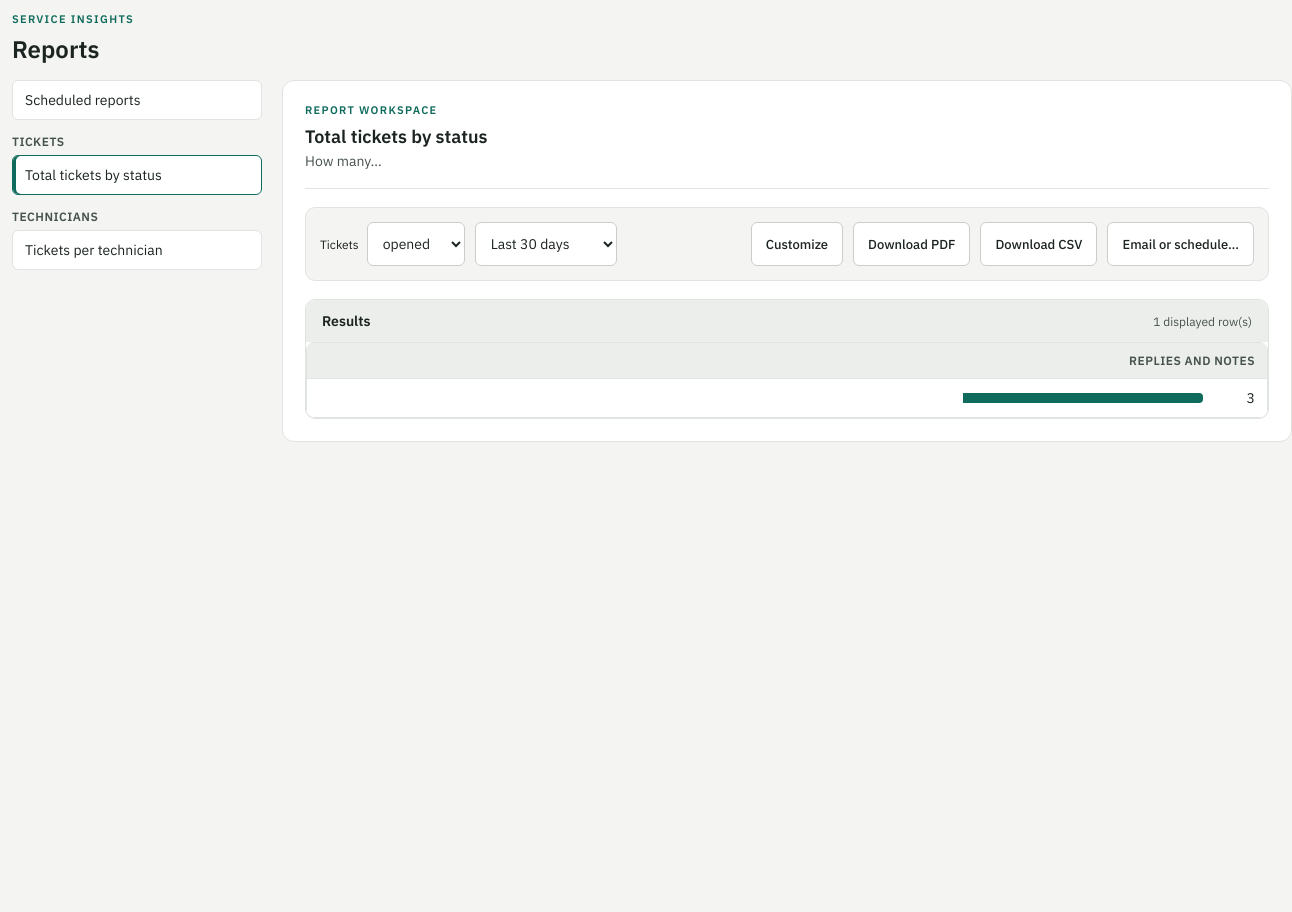
report on other data: switching starts the report fresh and uses that data's dates
This screenshot has width=1292, height=912.
Click the button "Customize". click: [797, 244]
box: [751,222,843,266]
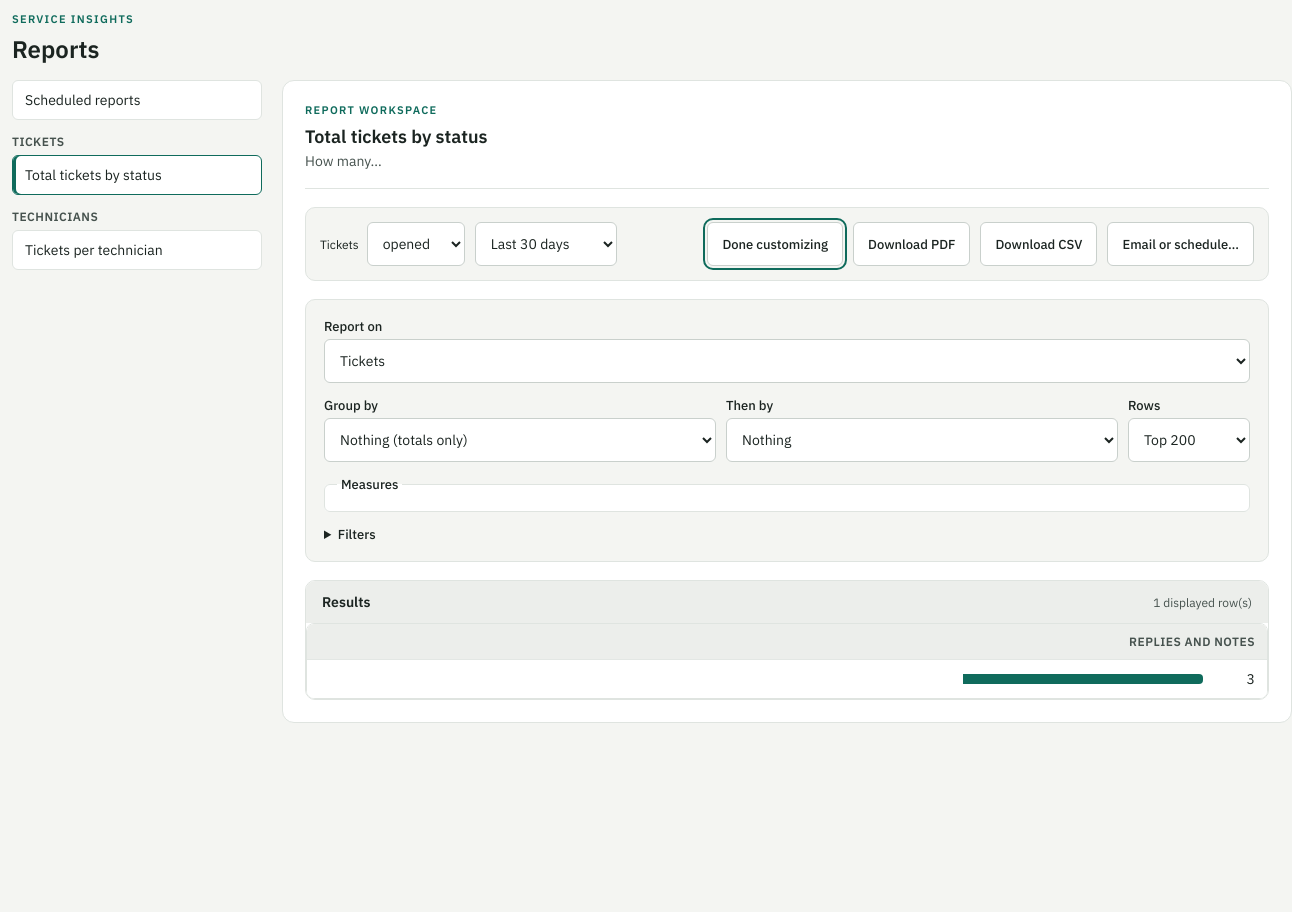
Select "Ticket activity" in the dropdown labelled "Report on". click: [787, 361]
box: [324,339,1250,383]
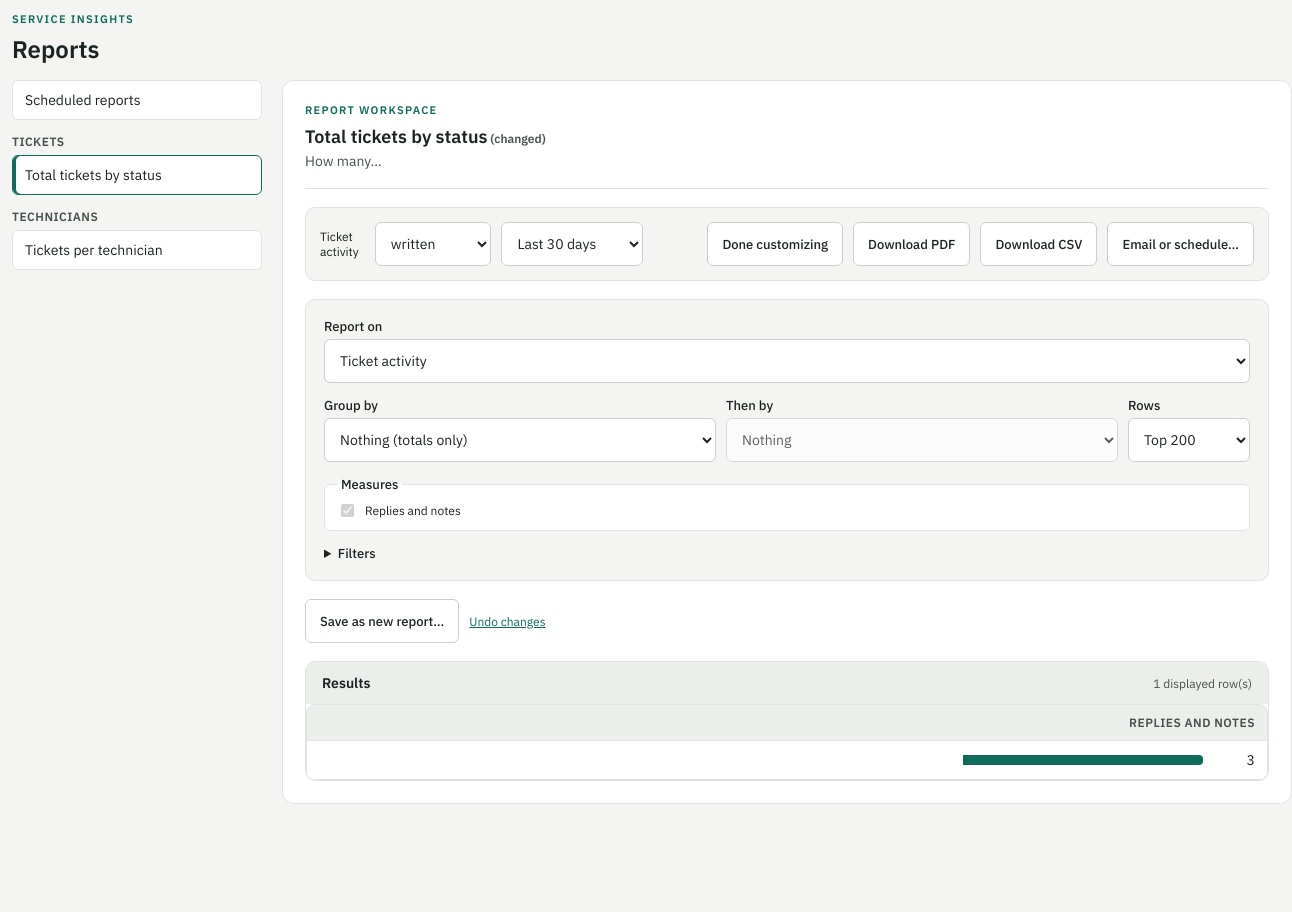
expect the dropdown named "Which date" shows "written": met, box [375,222,492,266]
